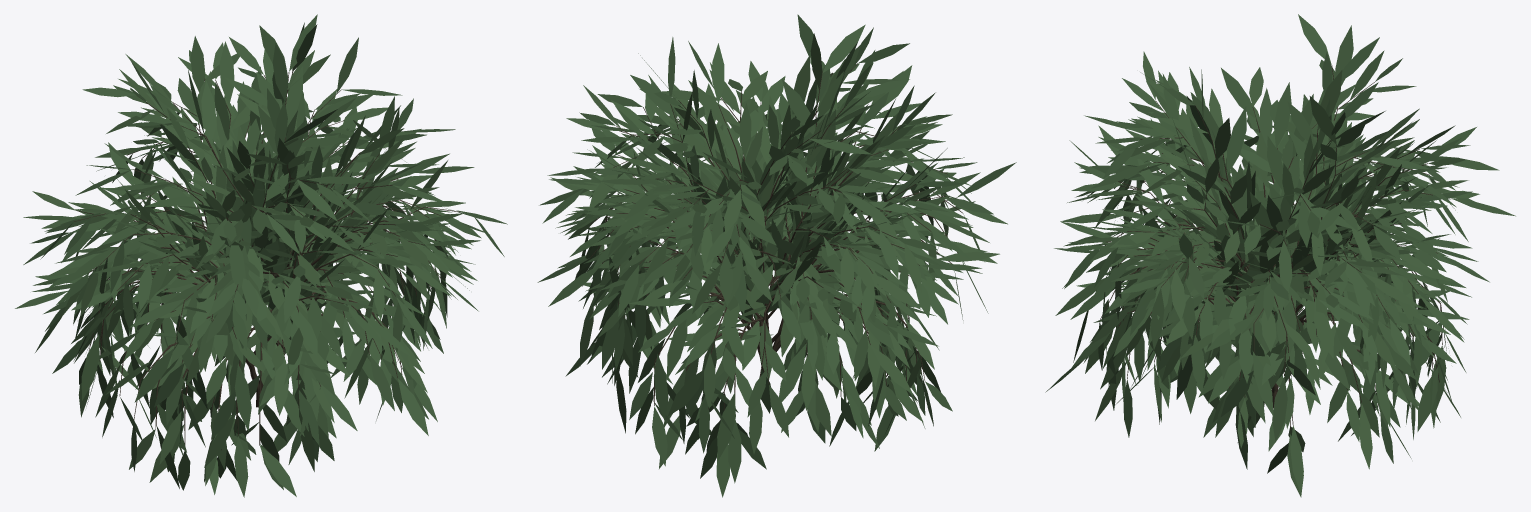
File: Tree_03.fbx
3 renders of one model, left to right at view 1: azimuth 30°, elevation 25°; view 2: azimuth 150°, elevation 25°; view 3: azimuth 270°, elevation 25°, orthographic.
Parts seen in each view (by area): view 1: leaves_03, Tree_03; view 2: leaves_03, Tree_03; view 3: leaves_03, Tree_03.
Boxes of the visible parts, left/top/right/bottom form: leaves_03: left=15, top=14, right=507, bottom=497; Tree_03: left=73, top=71, right=460, bottom=450; leaves_03: left=537, top=14, right=1016, bottom=497; Tree_03: left=590, top=63, right=963, bottom=410; leaves_03: left=1045, top=14, right=1515, bottom=497; Tree_03: left=1099, top=65, right=1450, bottom=433.
Bounding box in the file's own units: 235 × 220 × 236.
